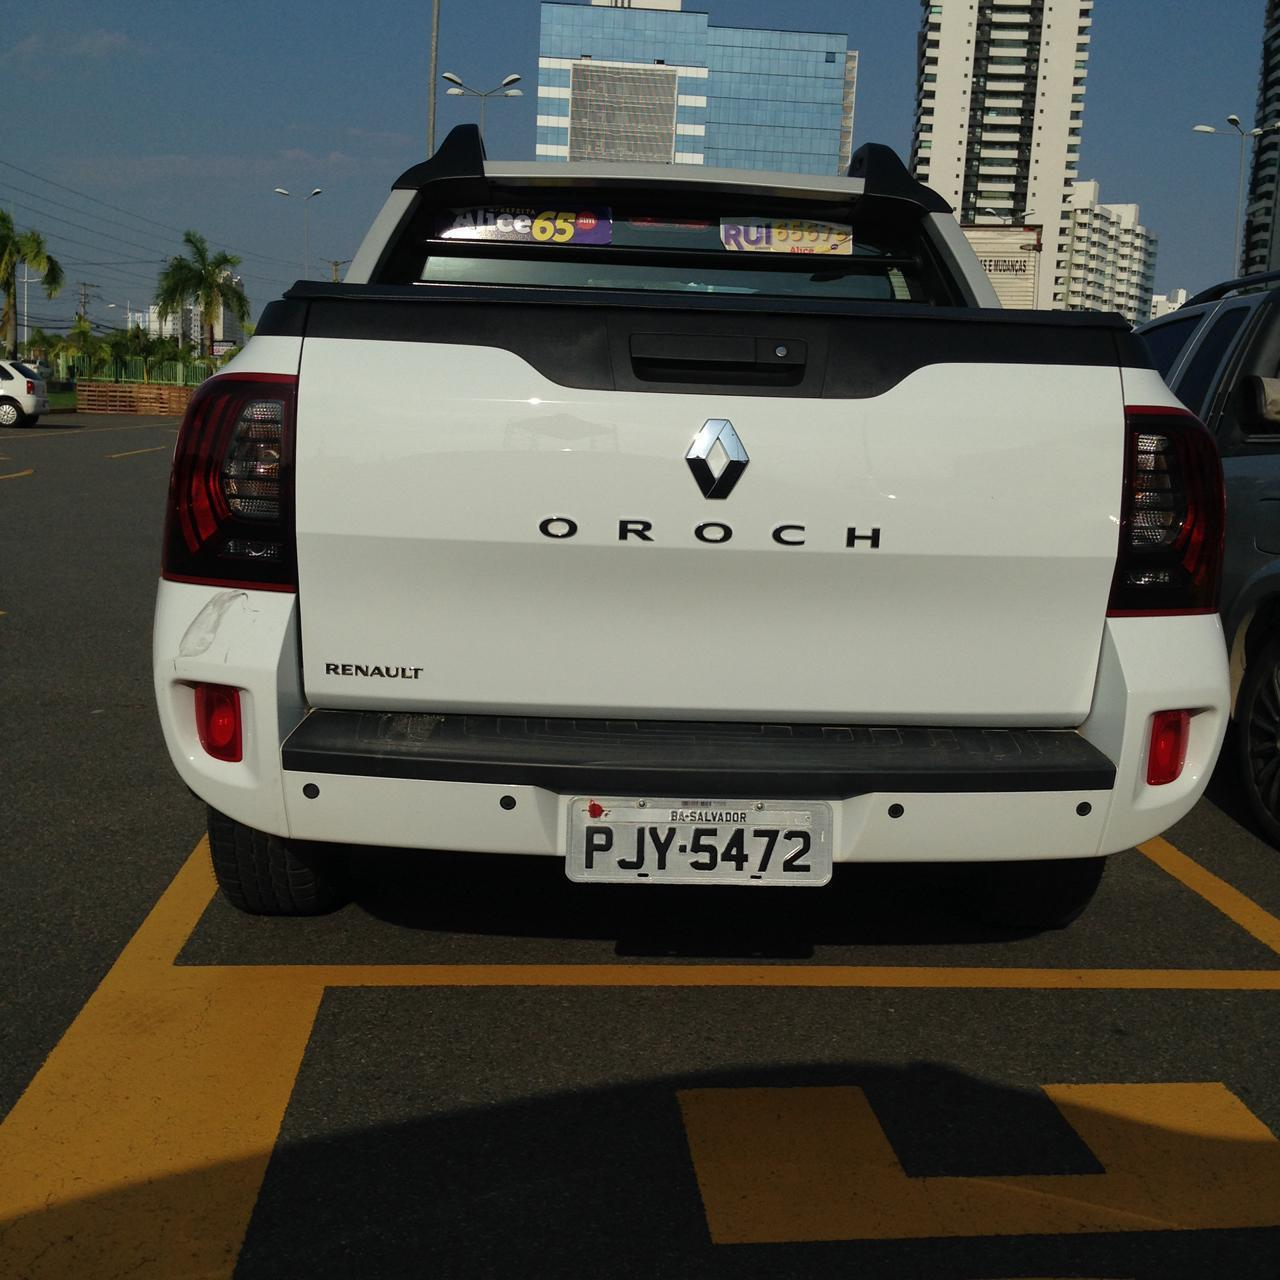placa de veiculo: (533, 773, 873, 926)
